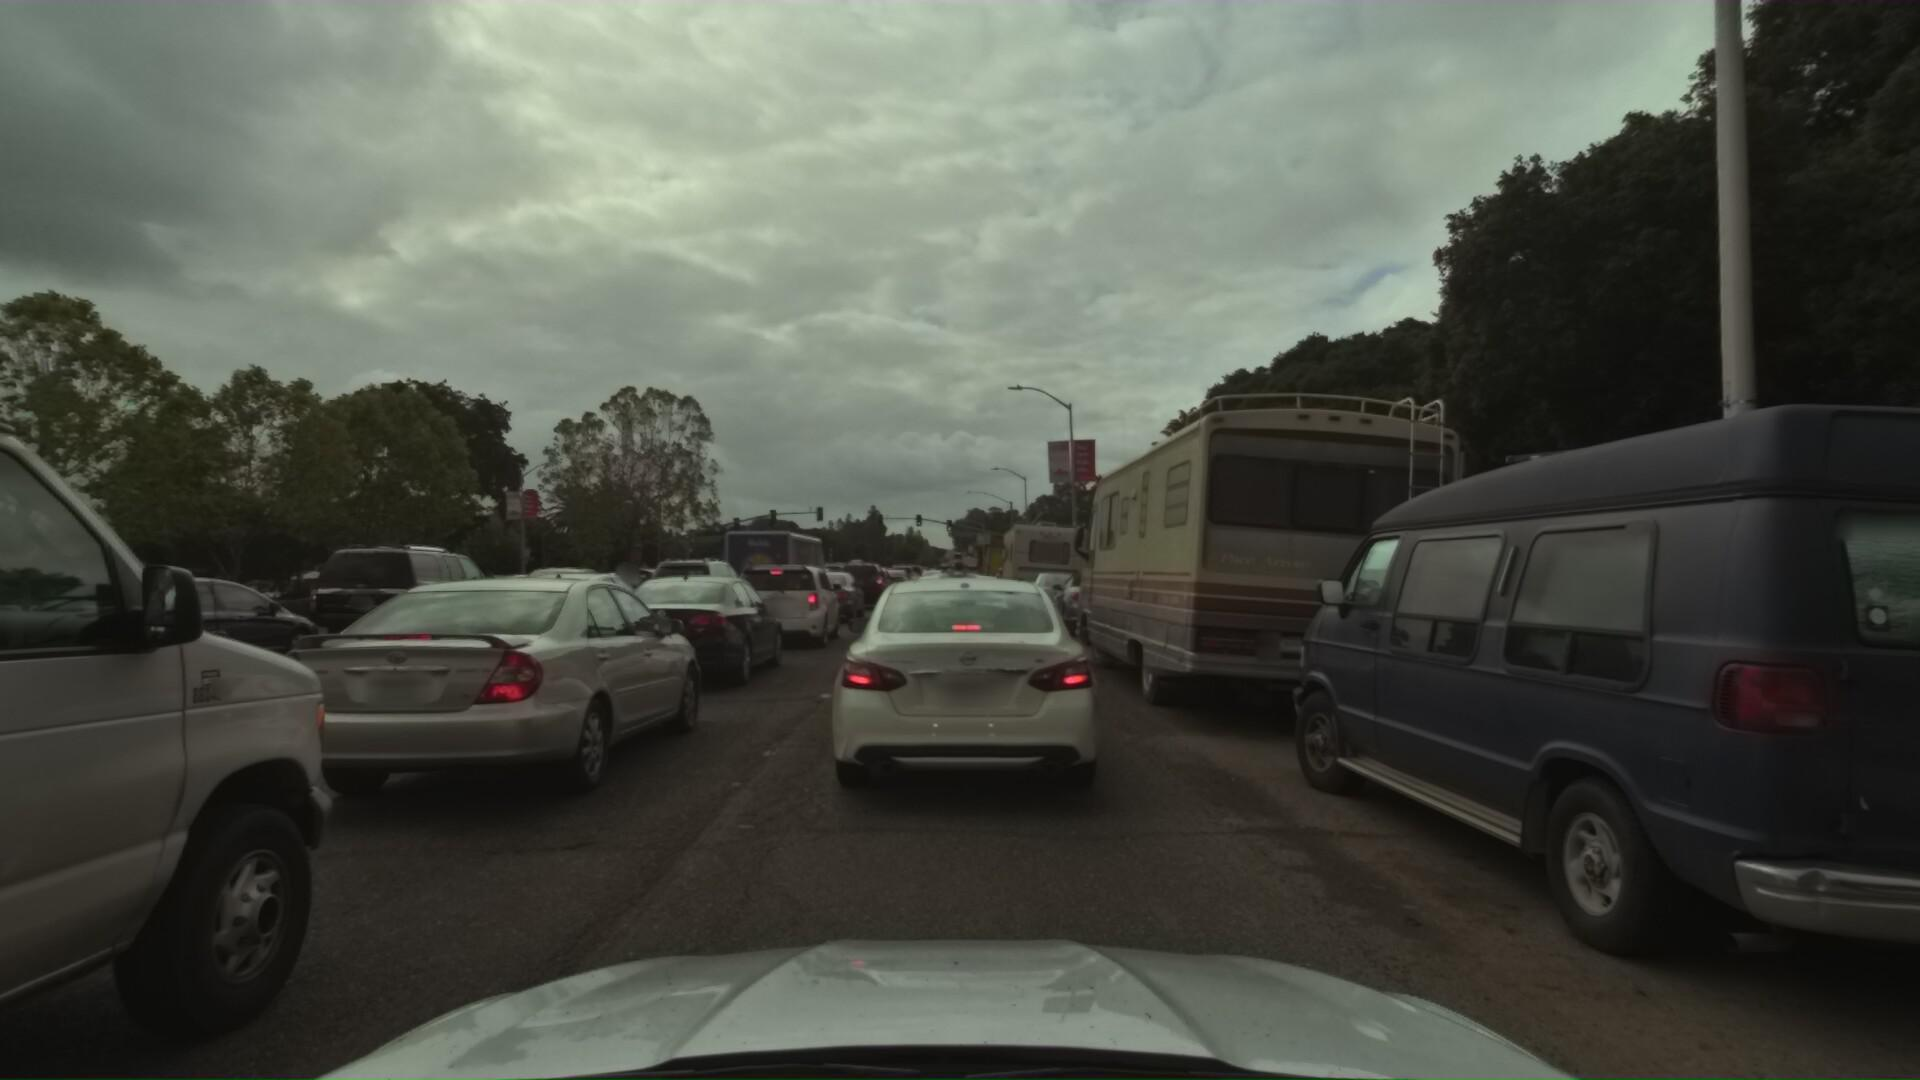bus: (721, 525, 833, 624)
car: (1269, 369, 1920, 1080), (239, 556, 709, 847), (825, 560, 1117, 824), (0, 558, 349, 694), (301, 541, 531, 659), (582, 570, 785, 702), (884, 543, 1038, 683), (475, 564, 666, 666), (721, 556, 843, 653), (500, 556, 632, 624), (1048, 566, 1149, 644), (644, 556, 749, 625), (907, 564, 989, 644), (786, 567, 866, 628), (1022, 564, 1097, 626), (603, 556, 690, 609), (452, 566, 545, 615), (906, 563, 973, 622), (827, 559, 891, 615), (847, 564, 895, 612), (924, 560, 975, 604), (876, 564, 913, 597), (887, 564, 916, 593), (899, 566, 924, 591)
other_vehicle: (1062, 361, 1486, 756), (998, 509, 1096, 611)
truck: (981, 537, 1033, 589)
